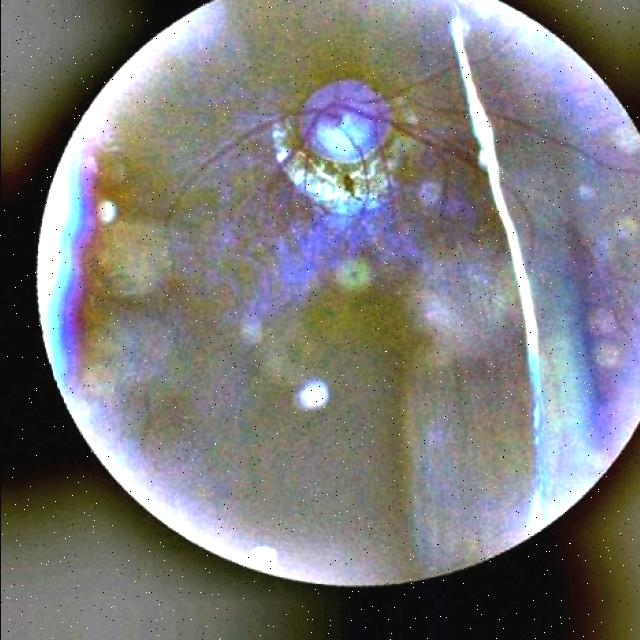Macula: (334, 256, 373, 293)
Nerves: (165, 112, 301, 229), (390, 122, 458, 155), (349, 139, 368, 213)
Optic Disk: (304, 81, 388, 163)
